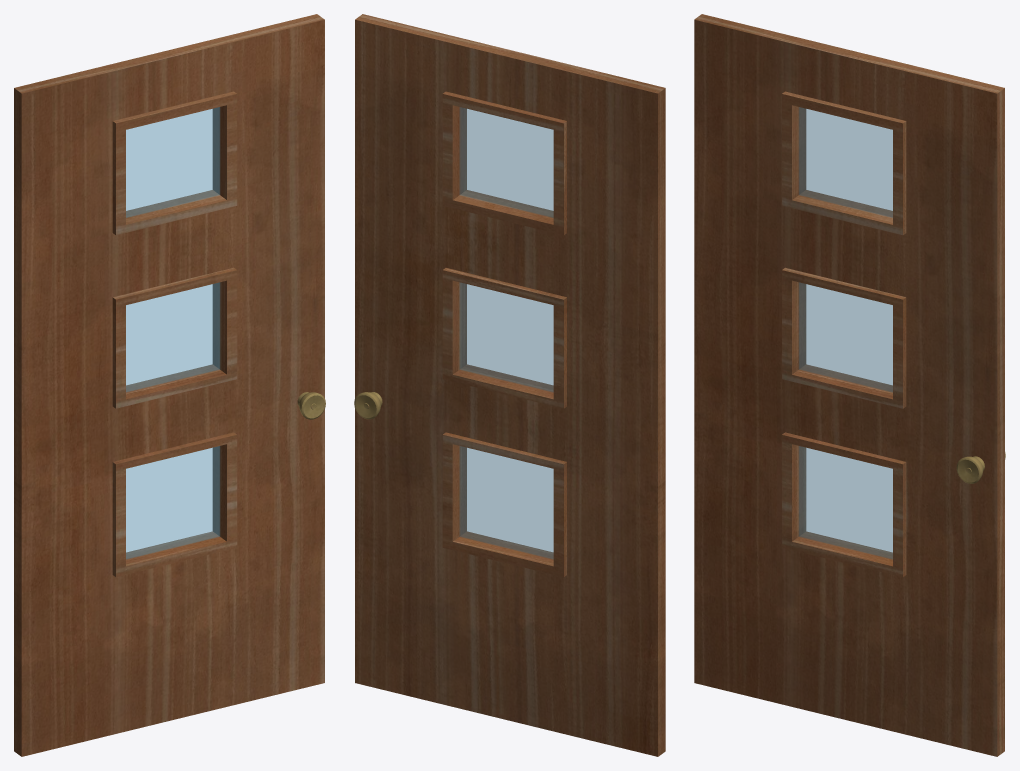
Rendered from WoodDoor.glb.
The picture shows the model from 3 angles, left to right: view 1: azimuth 30°, elevation 25°; view 2: azimuth 150°, elevation 25°; view 3: azimuth 330°, elevation 25°; orthographic projection.
Parts seen in each view (by area): view 1: pCube5; view 2: pCube5; view 3: pCube5.
Boxes of the visible parts, x1,y1,x2,y2 form: pCube5: (14, 14, 325, 756); pCube5: (354, 14, 665, 756); pCube5: (694, 14, 1005, 756).
Size of the model in its own units: 105 by 219 by 15.43.
Materials: 2 (2 with a texture image).
